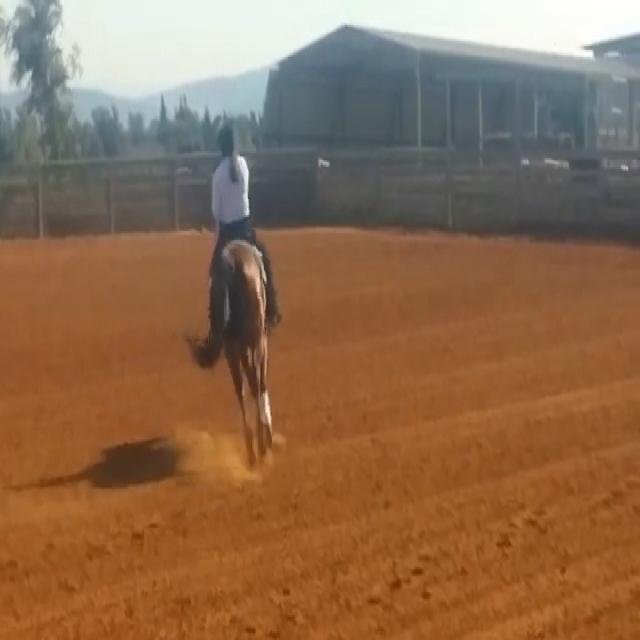horse: (216, 235, 277, 473)
